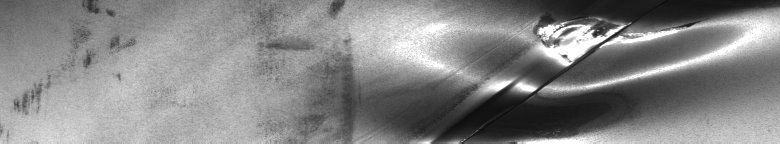ke: (464, 4, 776, 136)
